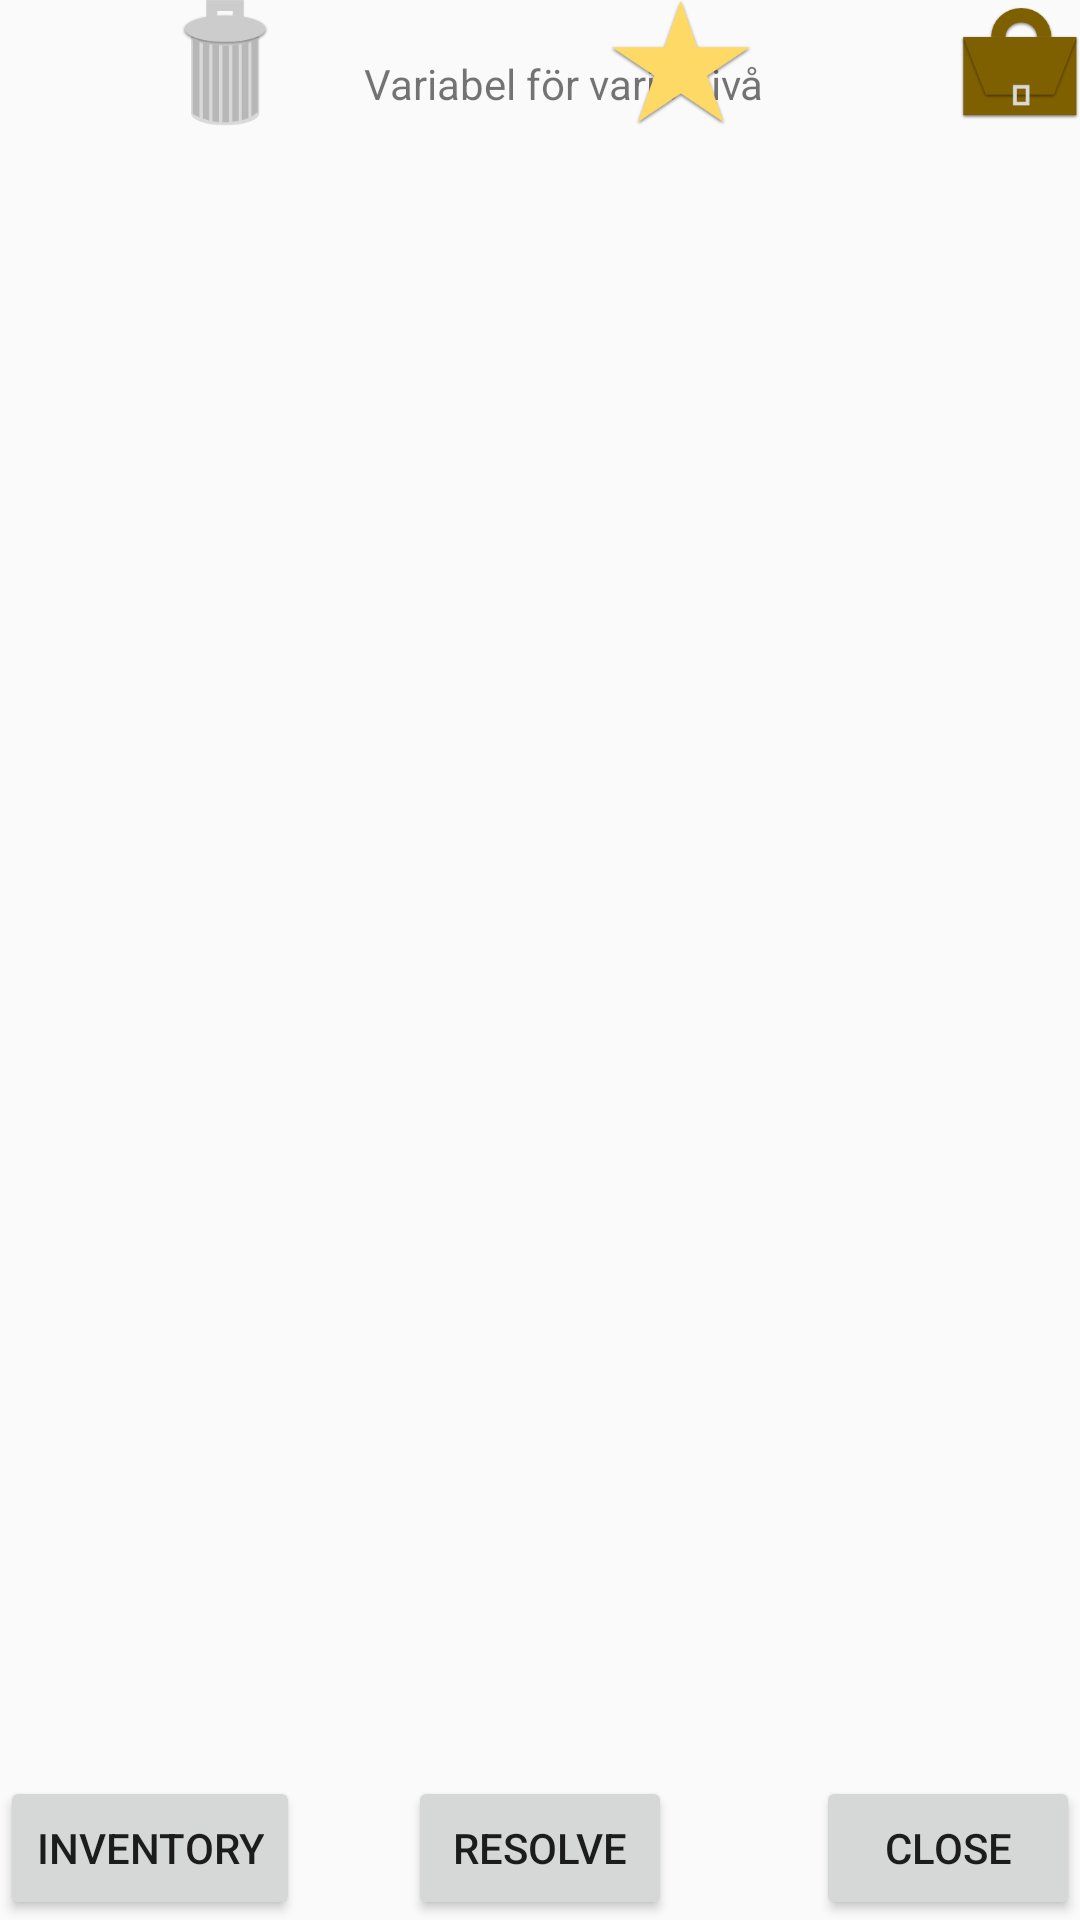

Icons on this 1080x1920 Android screen, each with the point to tap as (x=x, y=y):
inventory symbol: (x=1020, y=63)
